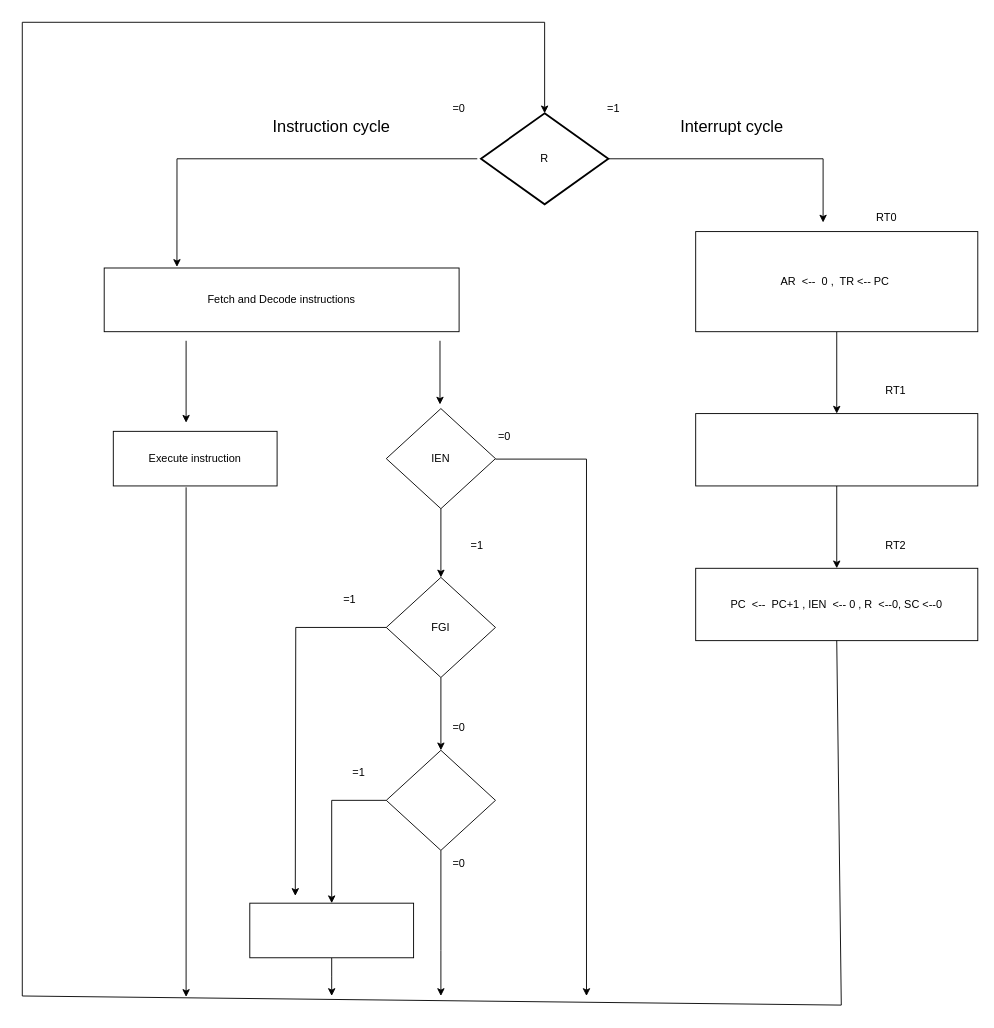
Some shapes in this 994 by 1028 pixel diagram are drawn without their labels. Each missing label, with the box of its shape:
FGO: (385, 749, 495, 850)
M[AR} <-- TR, PC<-- 0: (695, 413, 978, 486)
R <-- 1: (249, 902, 414, 958)
